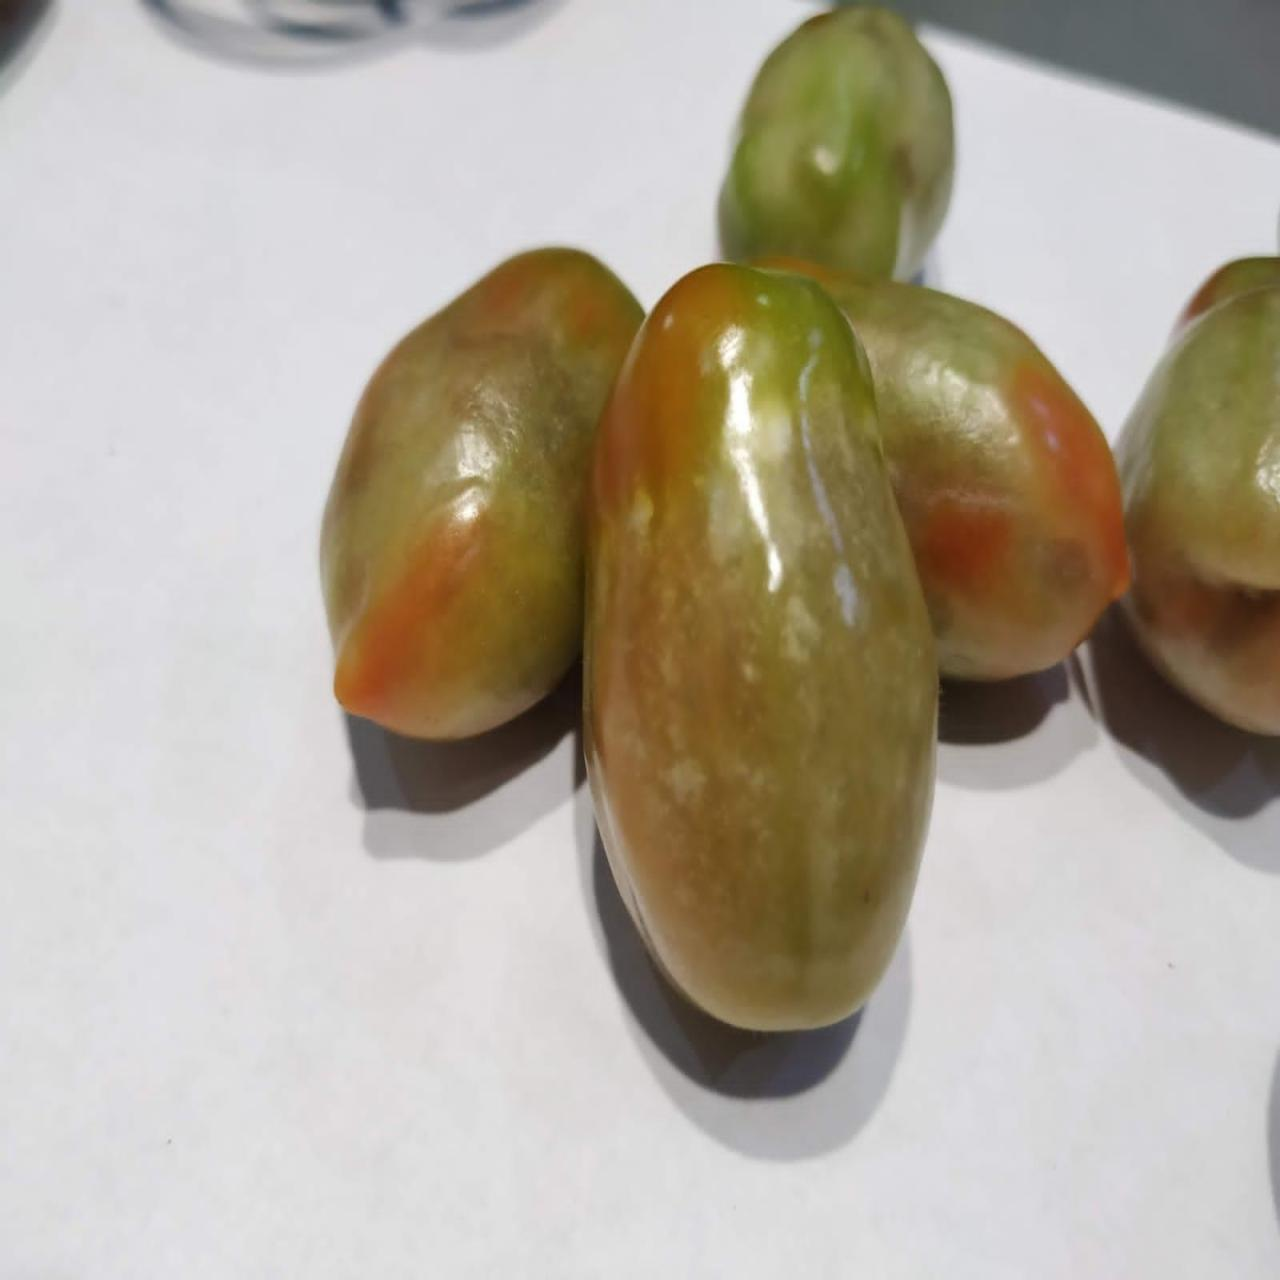T_F_R: (586, 264, 939, 1032), (321, 251, 646, 741), (775, 261, 1131, 681)
